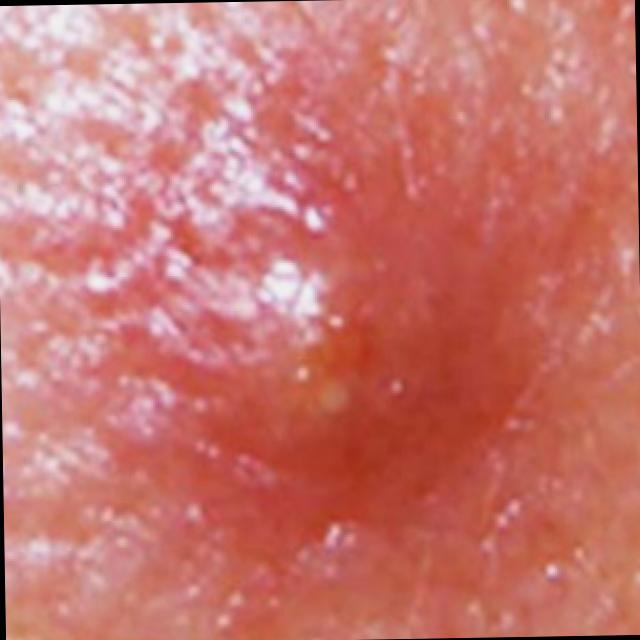nodule: (166, 196, 485, 506)
